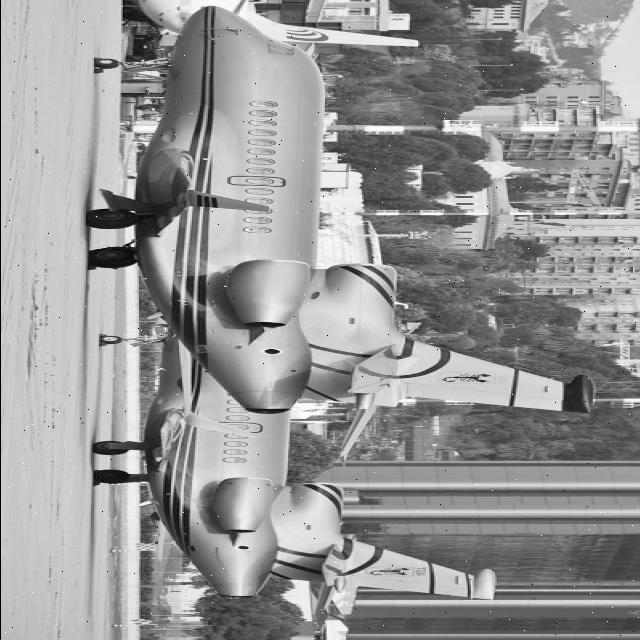jet: (63, 0, 640, 419)
